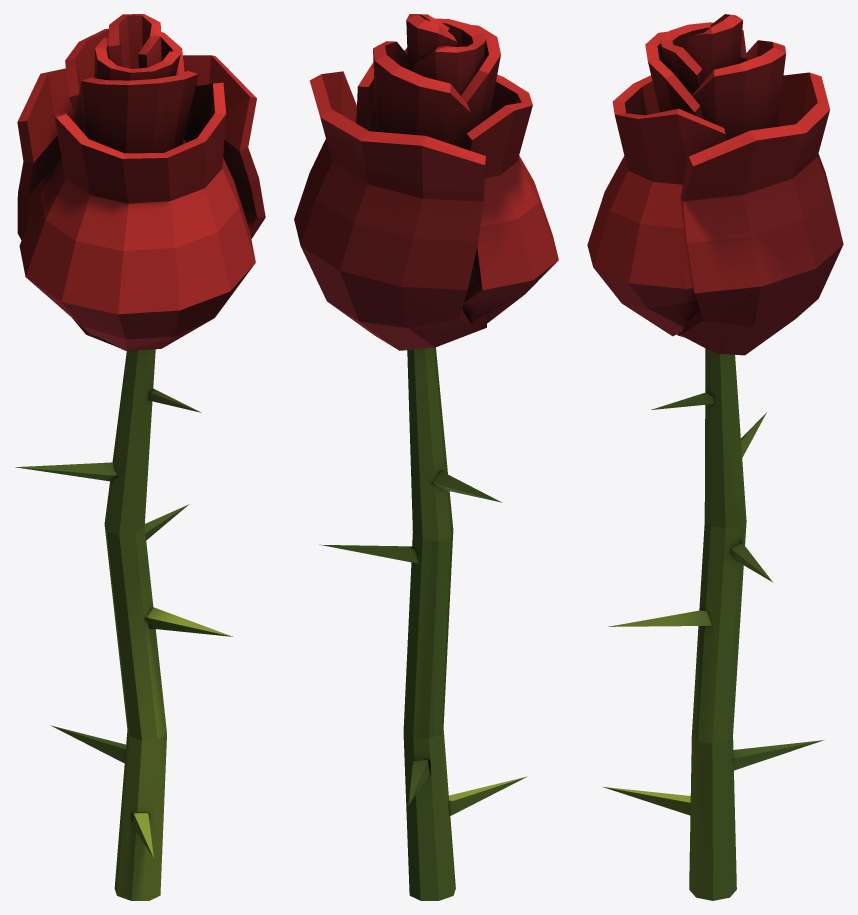
The model's file is dbe752cb-9798-47ea-ab91-428a86b1bf27.glb.
3 renders of one model, left to right at view 1: azimuth 30°, elevation 25°; view 2: azimuth 150°, elevation 25°; view 3: azimuth 270°, elevation 25°, orthographic.
Parts seen in each view (by area): view 1: rose; view 2: rose; view 3: rose.
Boxes of the visible parts, x1,y1,x2,y2 form: rose: (15,14,265,900); rose: (294,14,558,900); rose: (587,14,843,900).
Bounding box in the file's own units: 0.6034 × 2.24 × 0.5936.
1 material, 1 textured.
